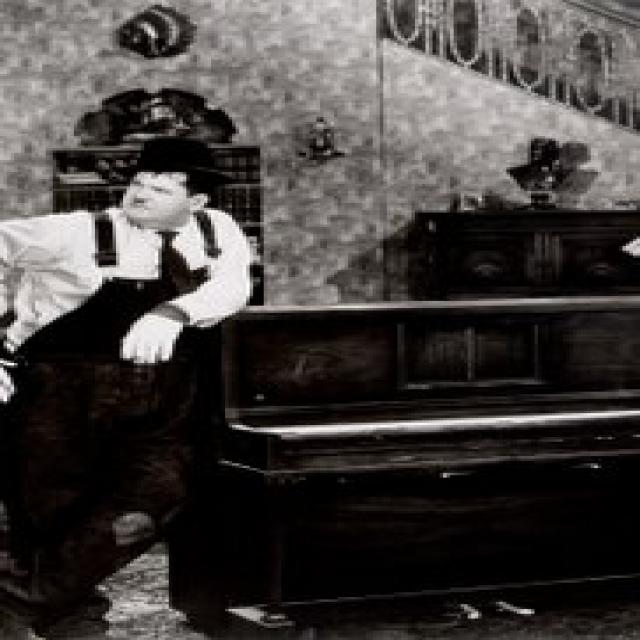picture: (1, 2, 638, 636)
